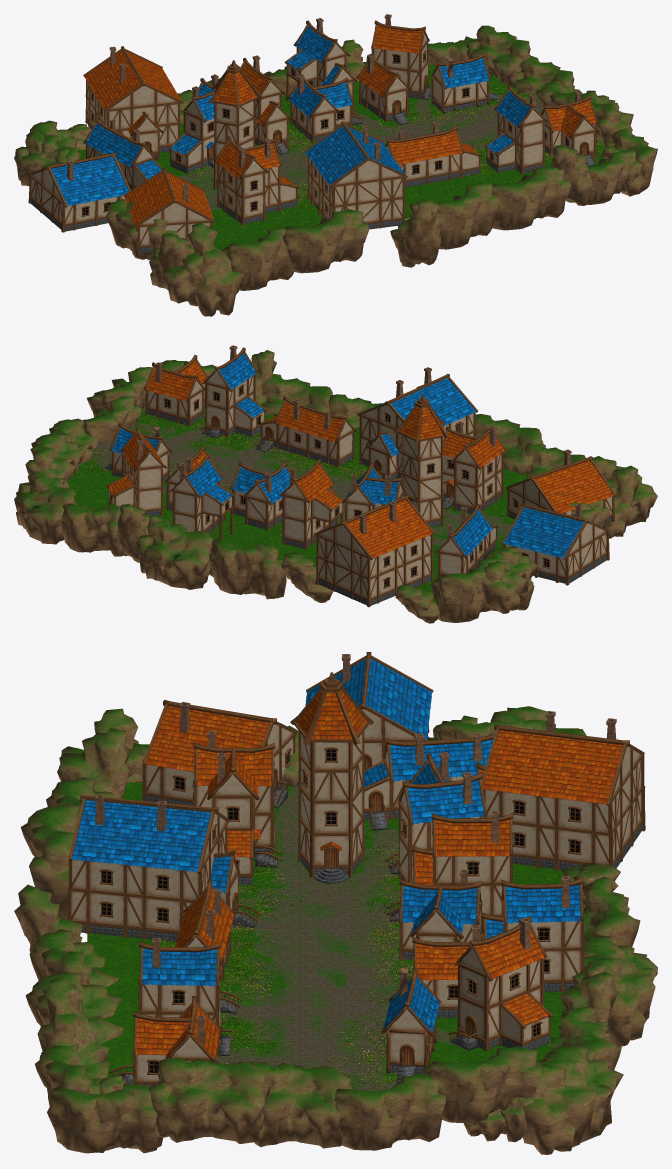
The model's file is Town.fbx.
3 views of the same model, one above another, from view 1: azimuth 30°, elevation 25°; view 2: azimuth 150°, elevation 25°; view 3: azimuth 270°, elevation 25° (orthographic). The views are drawn at different scales.
Visible parts, largest first — view 1: Town.001; view 2: Town.001; view 3: Town.001.
Part boxes in pixels (<box>): Town.001: <box>14,14,657,316</box>; Town.001: <box>14,345,657,623</box>; Town.001: <box>14,652,657,1154</box>.
Bounding box in the file's own units: 49.89 × 15.09 × 33.45.
6 materials, 5 textured.
